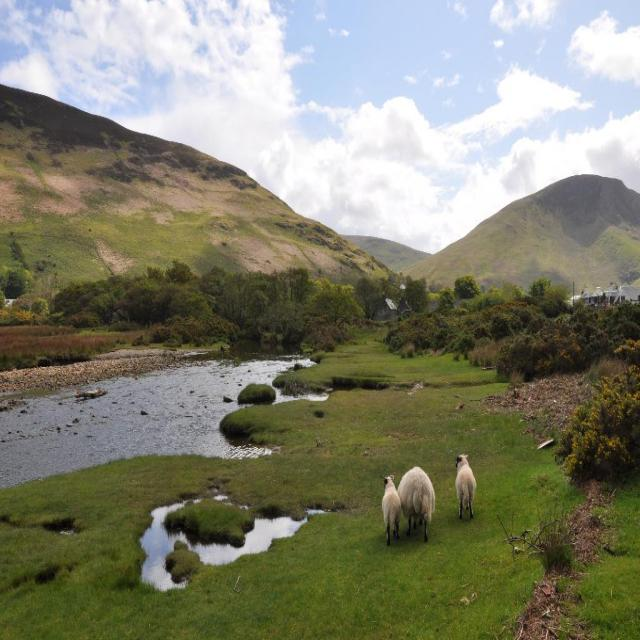Sheep: (398, 466, 436, 542), (454, 452, 477, 517), (382, 473, 402, 545)
